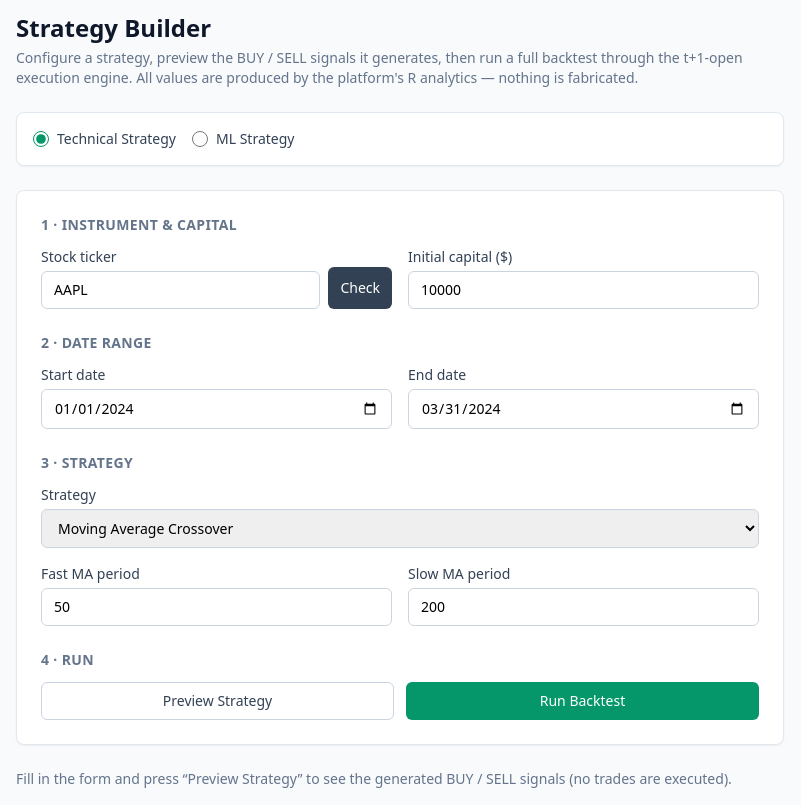
it: StrategyBuilderPage (Phase 4) › switching back to MA restores the MA fields
Select "Relative Strength Index (RSI)" in the dropdown labelled "Strategy": (400, 528) [41, 509, 759, 548]
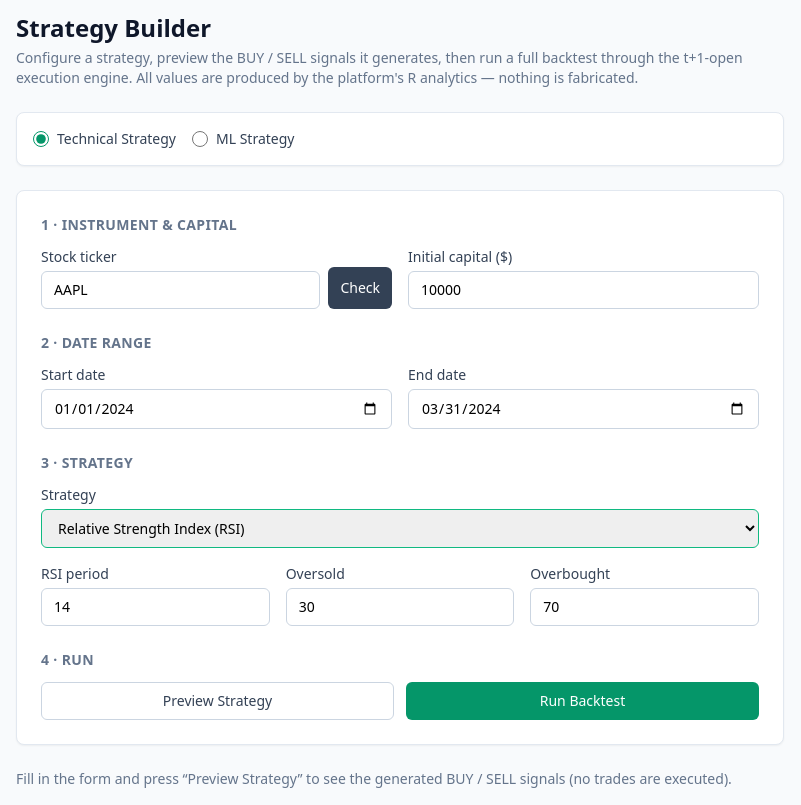
Select "Moving Average Crossover" in the dropdown labelled "Strategy": (400, 528) [41, 509, 759, 548]
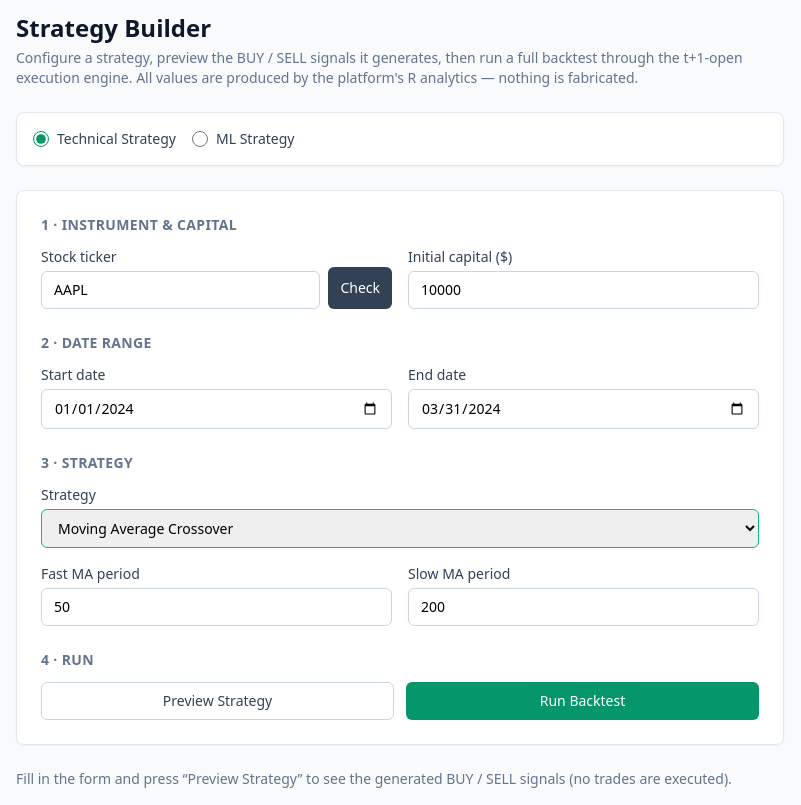
Expected: the number field labelled "Fast MA period" holds "50", [41, 588, 392, 626]
Expected: the number field labelled "Slow MA period" holds "200", [408, 588, 759, 626]
